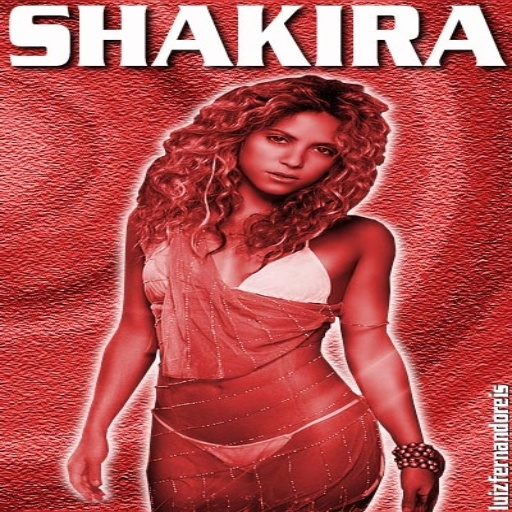hand: (62, 438, 111, 506), (401, 438, 449, 490)
